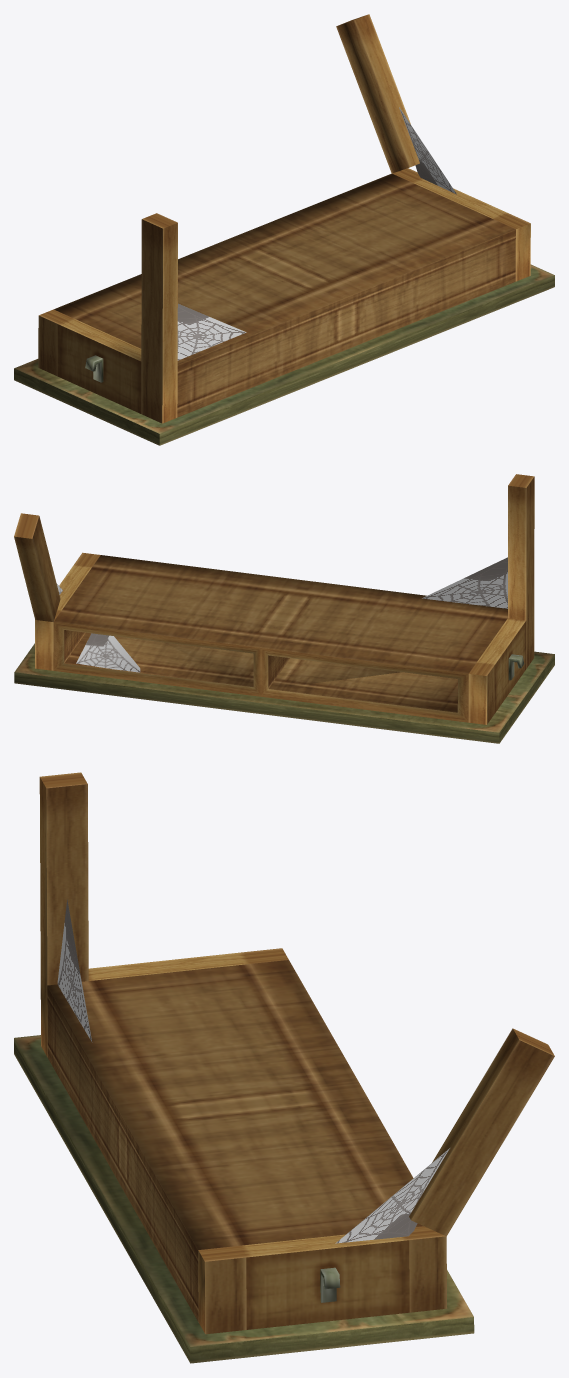
Rendered from a_SWGdesk03b03.glb.
The picture shows the model from 3 angles, top to bottom: view 1: azimuth 30°, elevation 25°; view 2: azimuth 150°, elevation 25°; view 3: azimuth 270°, elevation 25°; orthographic projection. The views are drawn at different scales.
Visible parts, largest first — view 1: a_SWGdesk03b03; view 2: a_SWGdesk03b03; view 3: a_SWGdesk03b03.
Boxes of the visible parts, x1,y1,x2,y2 form: a_SWGdesk03b03: [14, 14, 554, 445]; a_SWGdesk03b03: [14, 474, 554, 743]; a_SWGdesk03b03: [14, 772, 554, 1363].
Size of the model in its own units: 2.13 by 0.839 by 1.44.
Materials: 2 (2 with a texture image).
